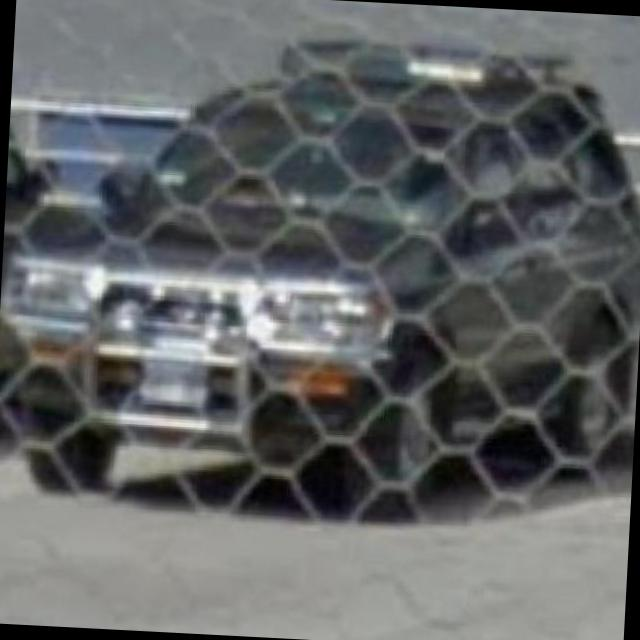car: (0, 8, 640, 530)
